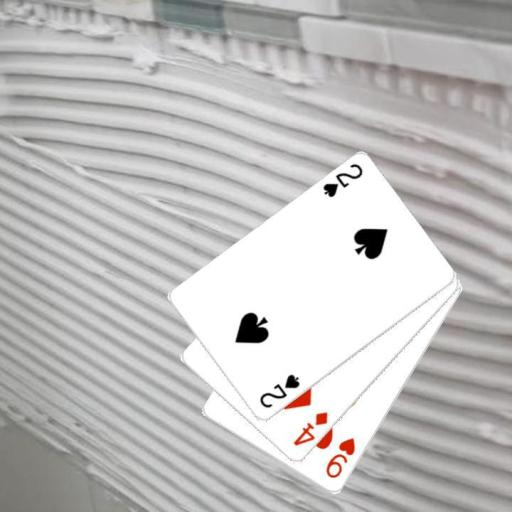2S: (256, 372, 302, 411), (319, 161, 365, 200)
4D: (290, 409, 330, 448)
9H: (322, 435, 357, 481)
